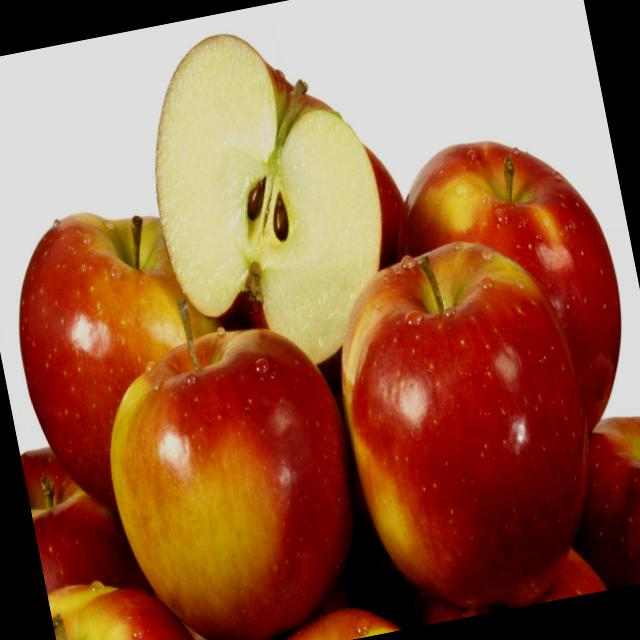apple: (314, 216, 621, 618), (363, 118, 640, 486), (88, 316, 388, 640), (0, 185, 264, 544)
